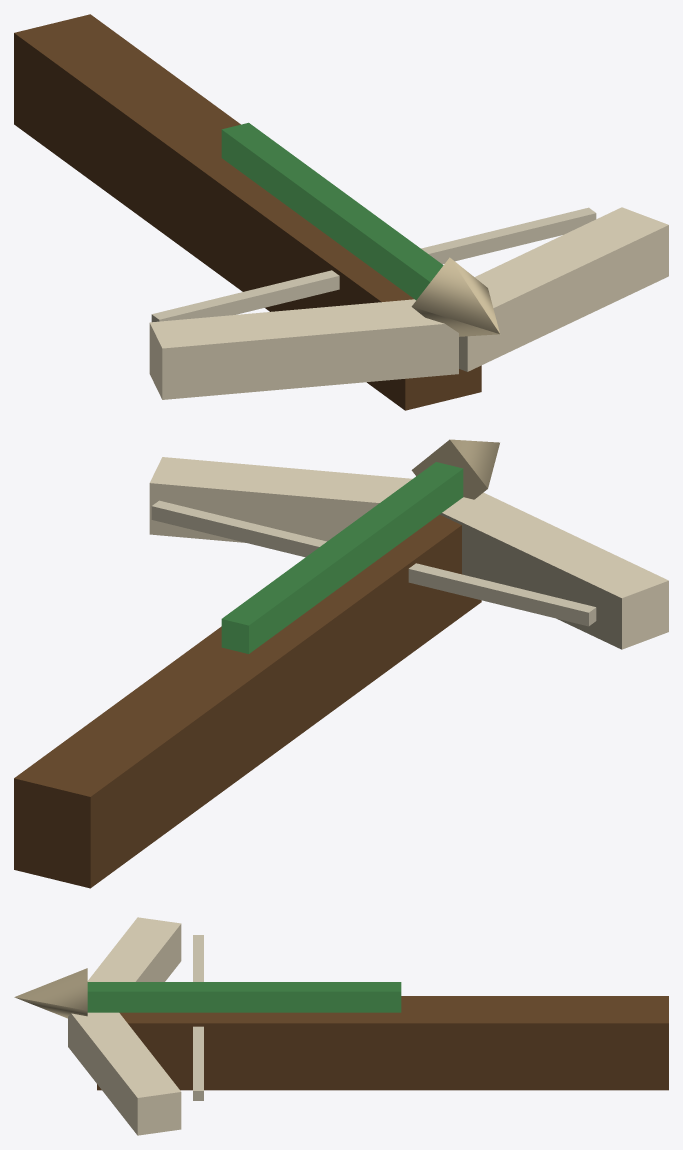
File: BO_SM_EnemyWeapon_Crossbow_v001.glb
The picture shows the model from 3 angles, top to bottom: view 1: azimuth 30°, elevation 25°; view 2: azimuth 150°, elevation 25°; view 3: azimuth 270°, elevation 25°; orthographic projection. The views are drawn at different scales.
Parts seen in each view (by area): view 1: body_000, body_002, body_001, glow_004, body_003, body_005; view 2: body_000, body_002, body_001, glow_004, body_003, body_005; view 3: body_000, glow_004, body_001, body_002, body_005, body_003.
Boxes of the visible parts, left/top/right/bottom form: body_000: left=14, top=14, right=481, bottom=410; body_002: left=149, top=299, right=458, bottom=399; body_001: left=459, top=207, right=668, bottom=371; glow_004: left=221, top=122, right=443, bottom=300; body_003: left=151, top=207, right=596, bottom=322; body_005: left=411, top=257, right=499, bottom=336; body_000: left=14, top=514, right=481, bottom=888; body_002: left=440, top=492, right=668, bottom=649; body_001: left=149, top=457, right=412, bottom=542; glow_004: left=221, top=462, right=463, bottom=653; body_003: left=151, top=500, right=596, bottom=626; body_005: left=411, top=439, right=499, bottom=499; body_000: left=97, top=996, right=668, bottom=1090; glow_004: left=87, top=982, right=401, bottom=1012; body_001: left=68, top=1012, right=181, bottom=1135; body_002: left=87, top=917, right=181, bottom=981; body_005: left=14, top=968, right=87, bottom=1018; body_003: left=193, top=935, right=203, bottom=1100.
Bounding box in the file's own units: 0.4635 × 0.13 × 0.71.
